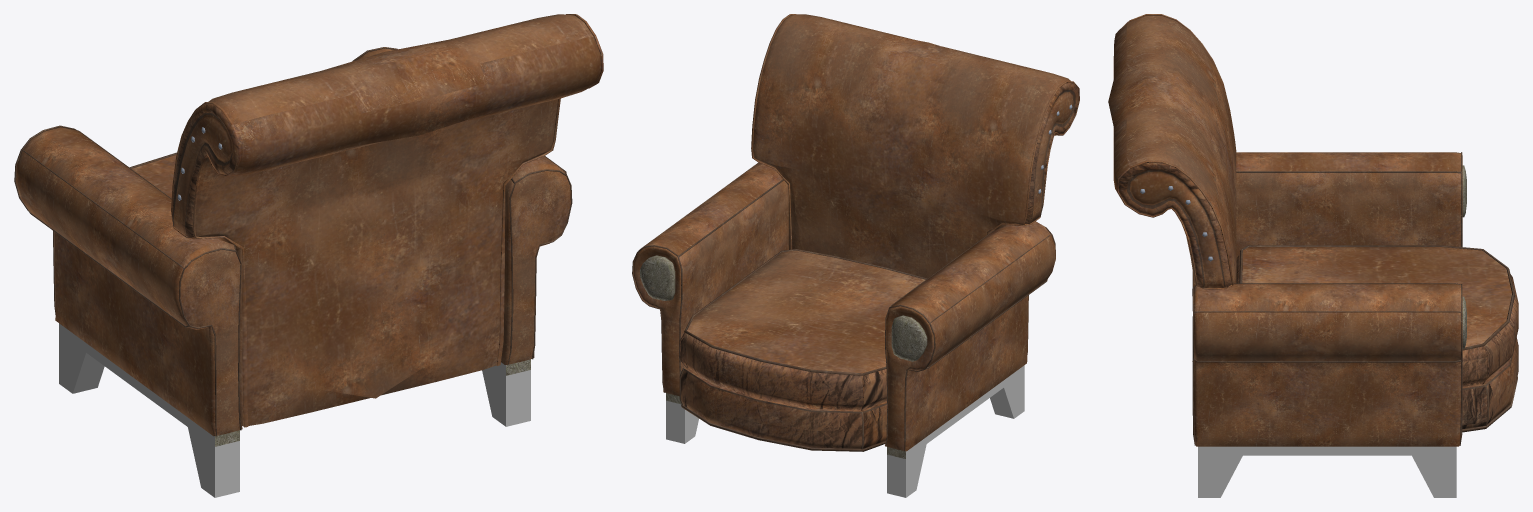
Rendered from SeatB.fbx.
3 renders of one model, left to right at view 1: azimuth 30°, elevation 25°; view 2: azimuth 150°, elevation 25°; view 3: azimuth 270°, elevation 25°, orthographic. The views are drawn at different scales.
Parts seen in each view (by area): view 1: SeatB; view 2: SeatB; view 3: SeatB.
Boxes of the visible parts, left/top/right/bottom form: SeatB: left=14, top=14, right=603, bottom=497; SeatB: left=632, top=14, right=1079, bottom=497; SeatB: left=1108, top=14, right=1518, bottom=497.
Size of the model in its own units: 128 by 129 by 137.
